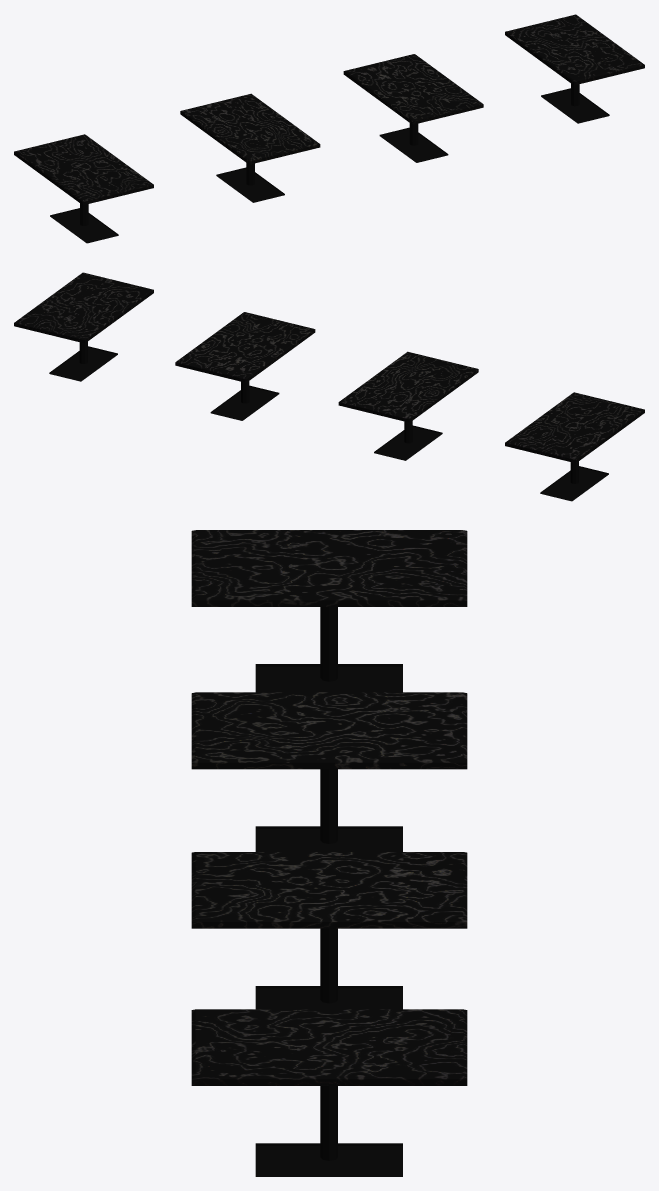
File: BoothTables.obj
3 views of the same model, one above another, from view 1: azimuth 30°, elevation 25°; view 2: azimuth 150°, elevation 25°; view 3: azimuth 270°, elevation 25° (orthographic). The views are drawn at different scales.
Parts seen in each view (by area): view 1: Cube.009_Cube.020; view 2: Cube.009_Cube.020; view 3: Cube.009_Cube.020.
Boxes of the visible parts, bbox=[...] form: Cube.009_Cube.020: bbox=[14, 14, 644, 243]; Cube.009_Cube.020: bbox=[14, 272, 644, 501]; Cube.009_Cube.020: bbox=[191, 530, 467, 1176].
Bounding box in the file's own units: 41.98 × 4.21 × 8.92.
1 material, 1 textured.
